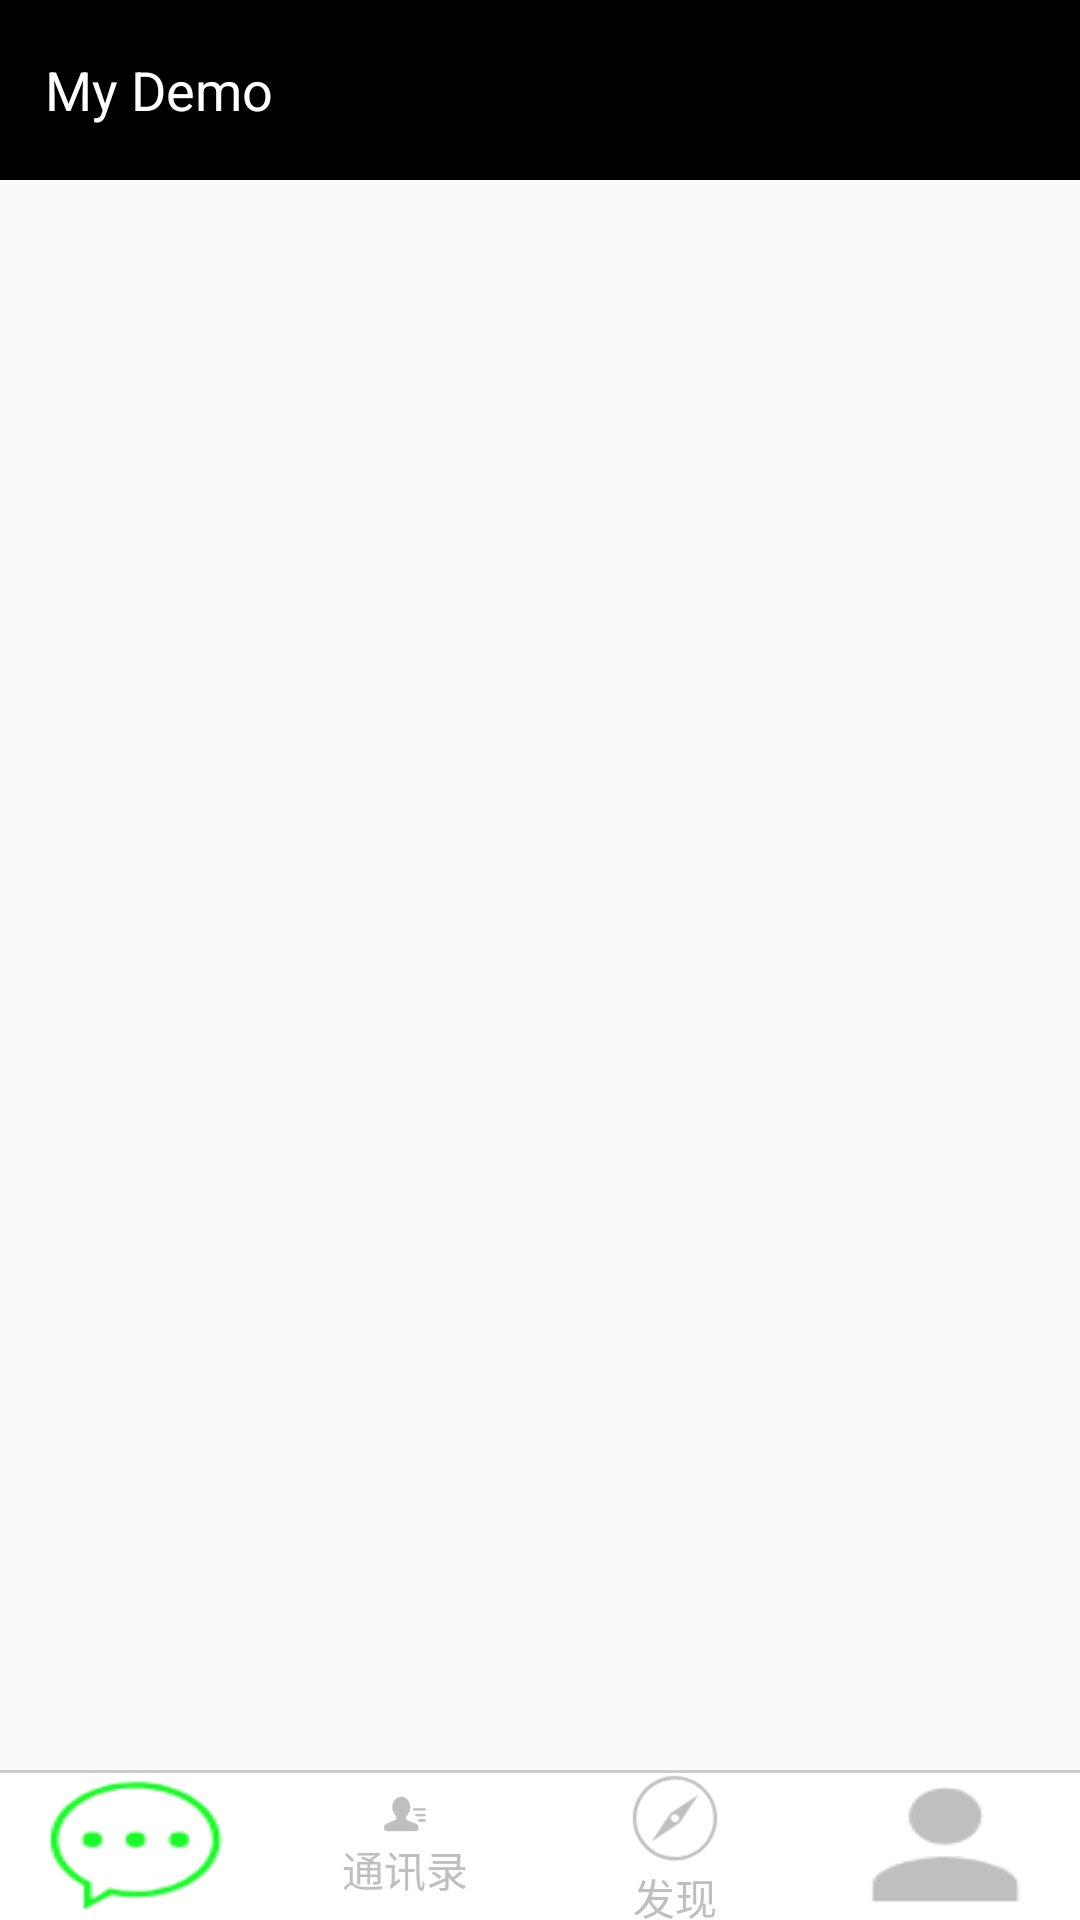

Point at icon controls on the screen. Image size 1080px x 1920px, points as [x,y].
message chosen: [136,1845]
